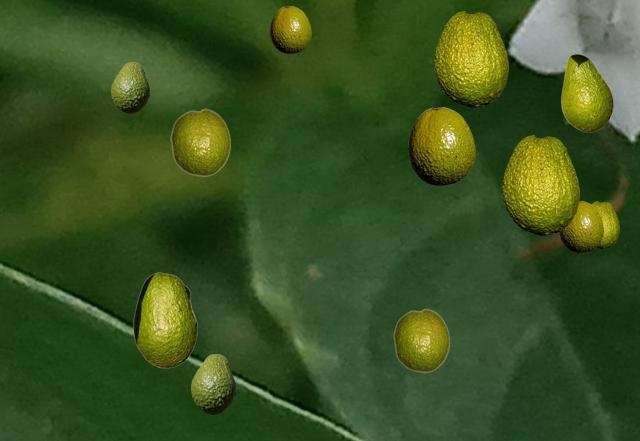avocado: (502, 135, 578, 234), (434, 11, 507, 106), (133, 272, 196, 367), (408, 107, 474, 184), (170, 108, 230, 176), (561, 54, 612, 131), (393, 308, 449, 372), (191, 354, 234, 413), (559, 201, 602, 251), (111, 62, 148, 112), (270, 6, 310, 52), (591, 201, 618, 247)
